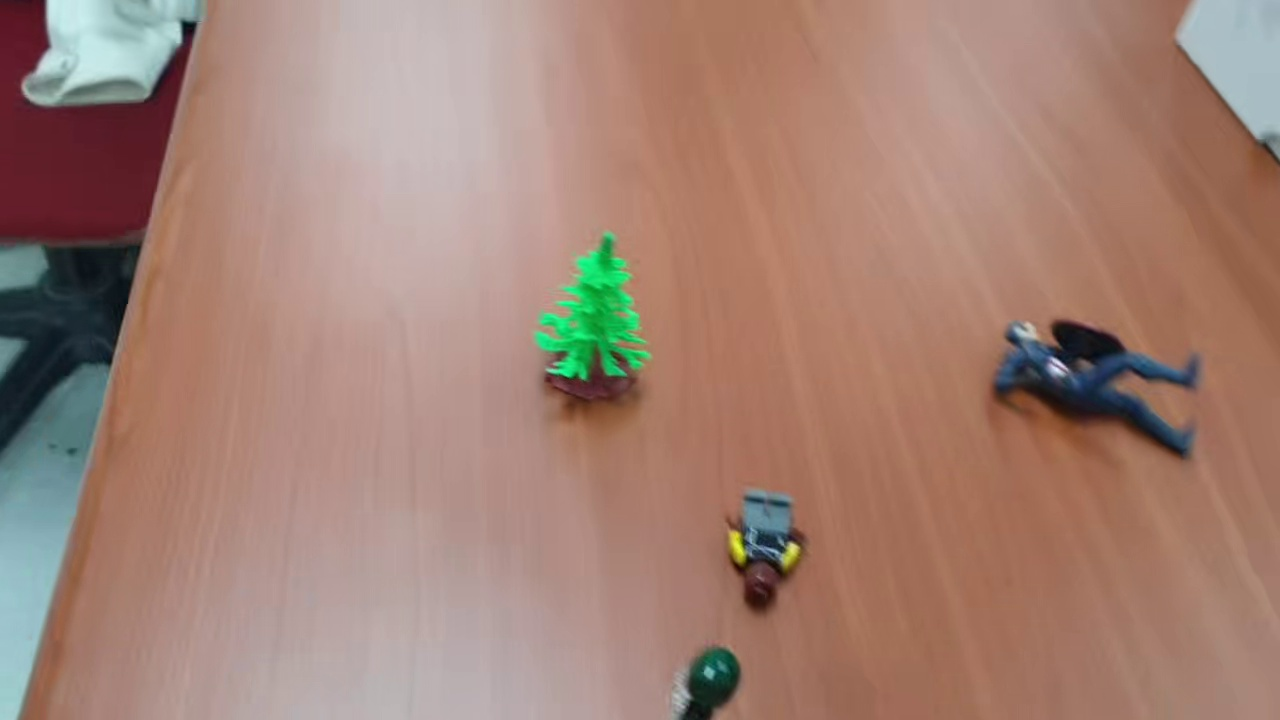people: (991, 318, 1206, 468), (715, 484, 813, 612), (664, 643, 750, 720)
tree: (534, 228, 651, 405)
